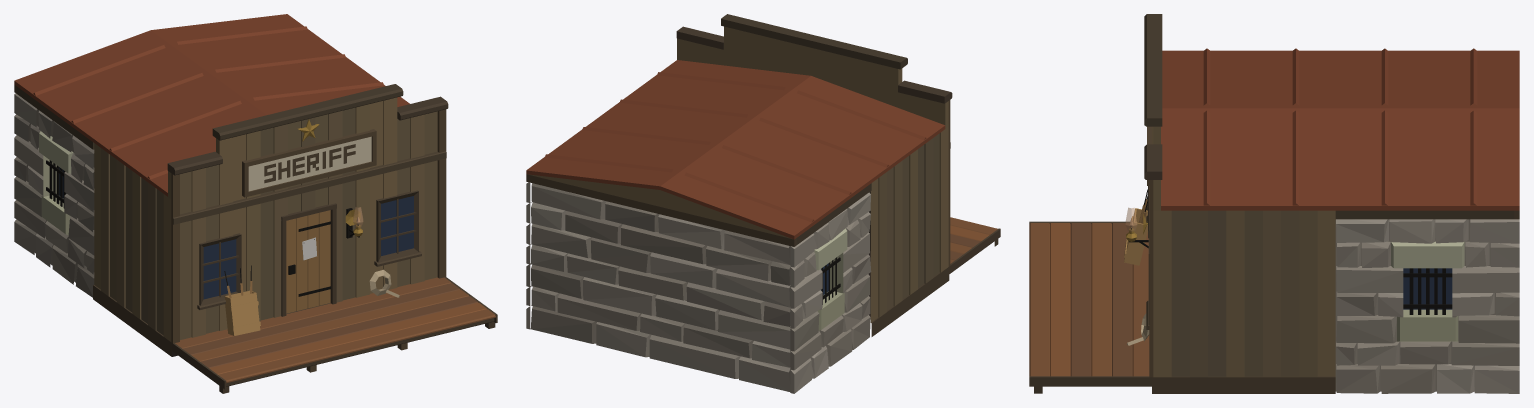
Rendered from sheriff-s-office-and-294314.glb.
3 views of the same model, side by side, from view 1: azimuth 30°, elevation 25°; view 2: azimuth 150°, elevation 25°; view 3: azimuth 270°, elevation 25° (orthographic). The views are drawn at different scales.
Visible parts, largest first — view 1: sheriff-mesh, door-mesh, rifle-crate-mesh; view 2: sheriff-mesh; view 3: sheriff-mesh, rifle-crate-mesh.
Boxes of the visible parts, x1=… form: sheriff-mesh: x1=14, y1=14, x2=497, y2=393; door-mesh: x1=286, y1=210, x2=330, y2=313; rifle-crate-mesh: x1=224, y1=265, x2=260, y2=335; sheriff-mesh: x1=526, y1=14, x2=1000, y2=393; sheriff-mesh: x1=1029, y1=14, x2=1519, y2=393; rifle-crate-mesh: x1=1124, y1=189, x2=1147, y2=265.
Bounding box in the file's own units: 6 × 4.5 × 8.
